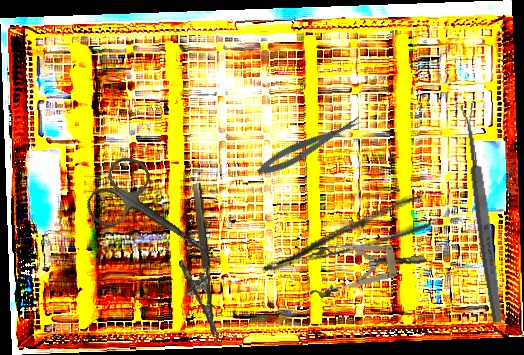Dressing Forceps: (253, 192, 432, 276)
Iris Scissors: (80, 149, 235, 289)
Micro Scissor: (253, 112, 366, 181)
Needle Holder: (170, 182, 220, 341)
Speculum: (304, 234, 429, 300)
Surgical Spoon: (459, 103, 506, 323)
